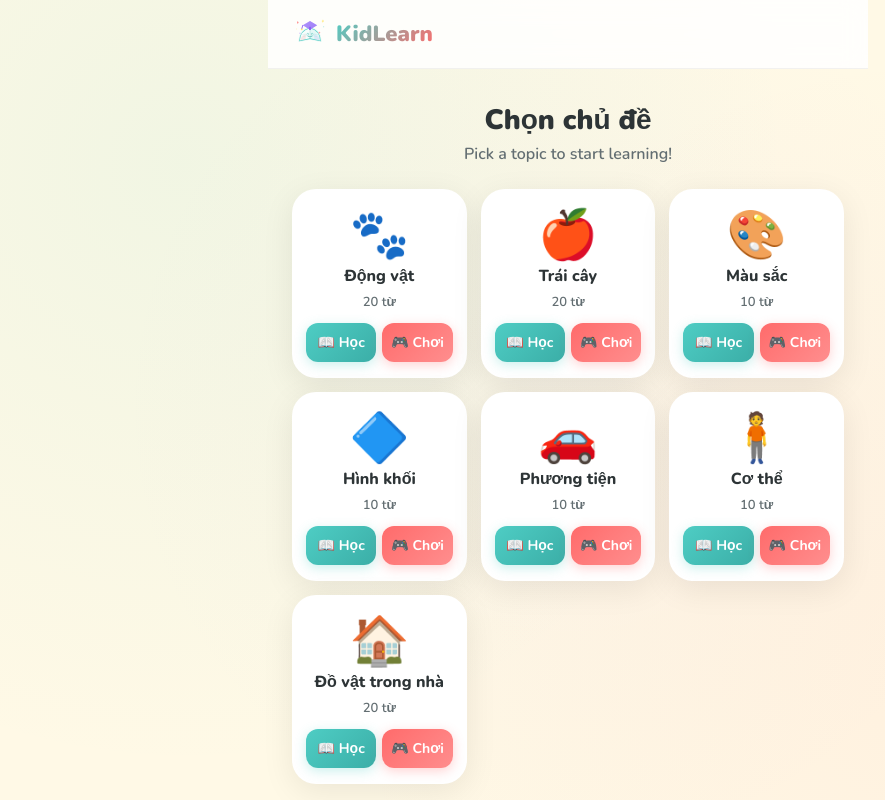
Scenario: App component › should go back to home when home button is clicked
The width and height of the screenshot is (885, 800).
# Go to flashcard mode
Click the button "📖 Học" below "Động vật" at (341, 342), box x1=306 y1=323 x2=376 y2=362
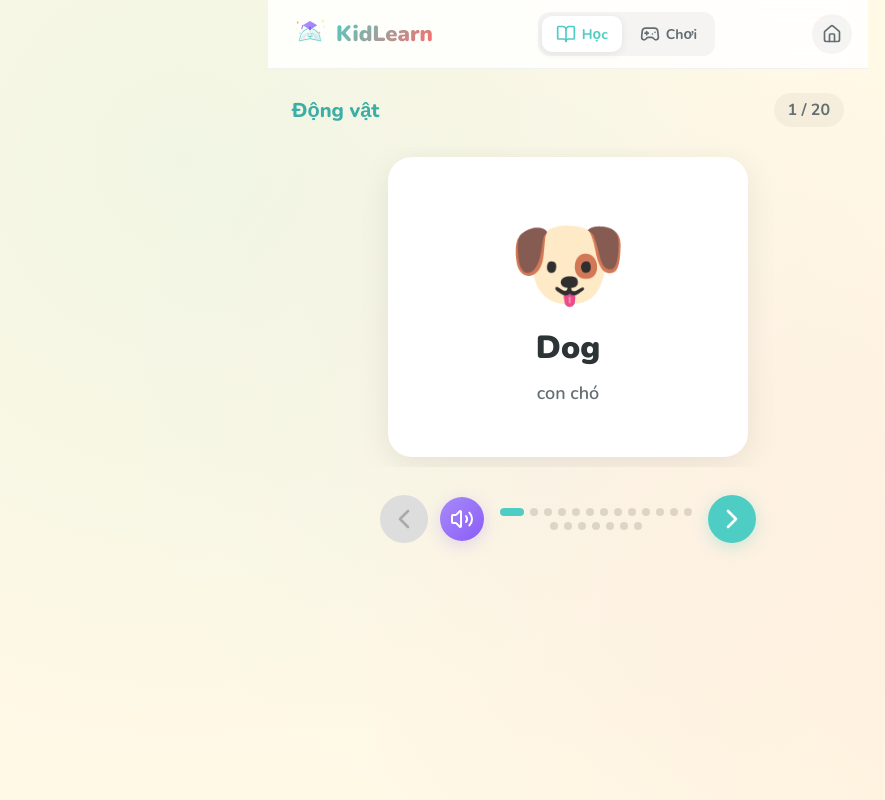
Now the text "1 / 20" is shown, box x1=774 y1=93 x2=844 y2=127
# Click home button
Click the button named "Back to home" at (832, 34), box x1=812 y1=14 x2=852 y2=54
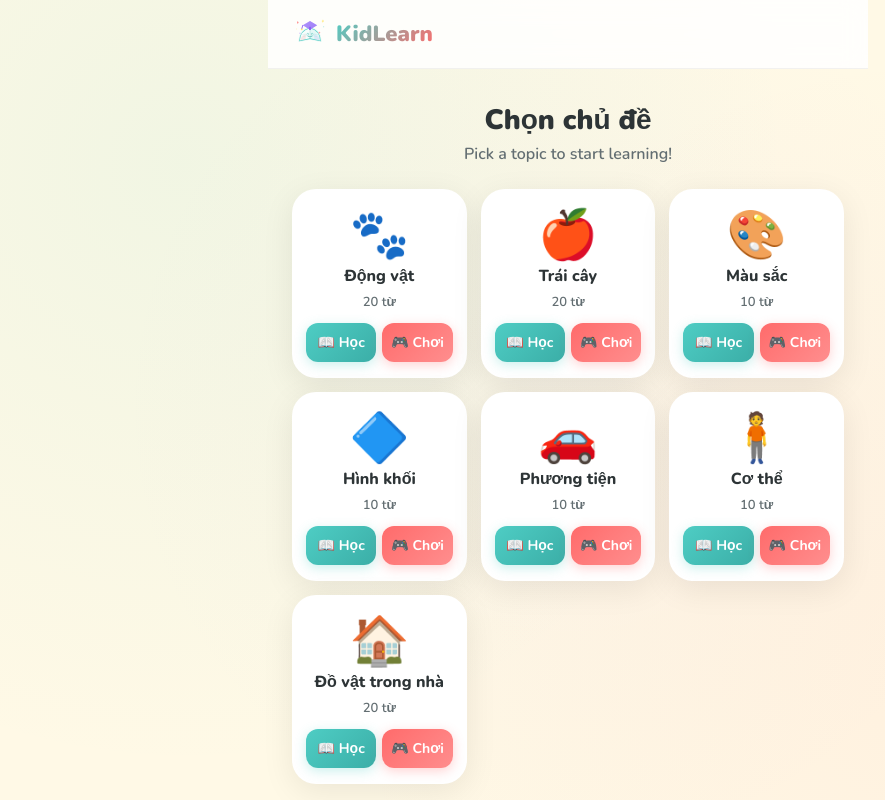
Now the heading "Chọn chủ đề" is shown, box x1=484 y1=101 x2=652 y2=139
